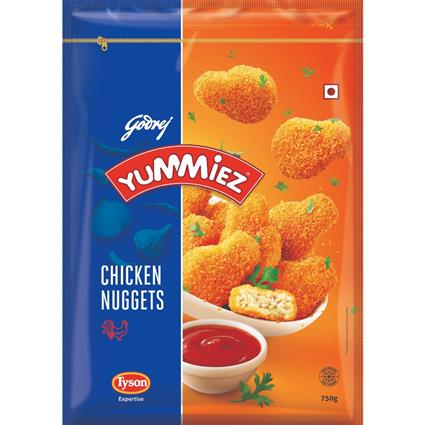nonveg_red: (323, 83, 339, 99)
